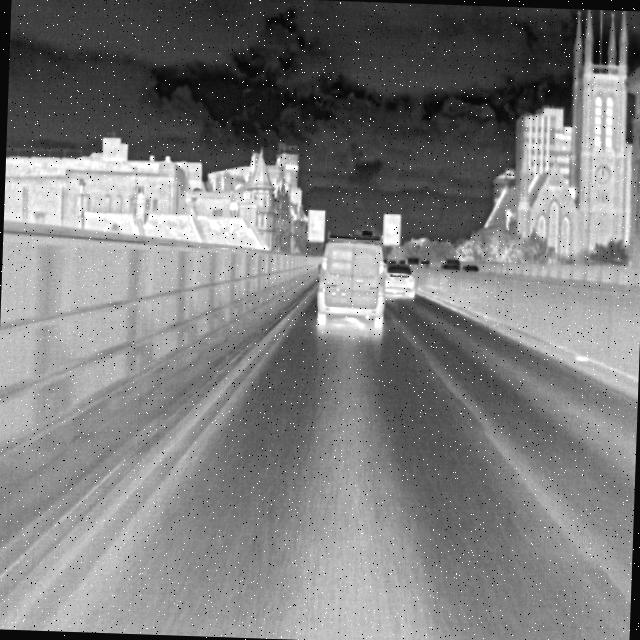Vehicle: (316, 233, 386, 331), (382, 258, 416, 301)
